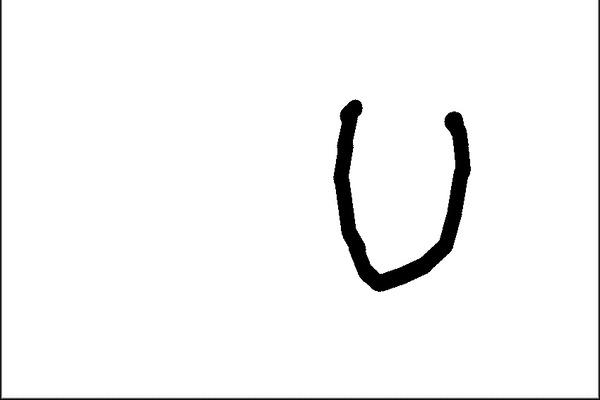U: (327, 88, 474, 296)
